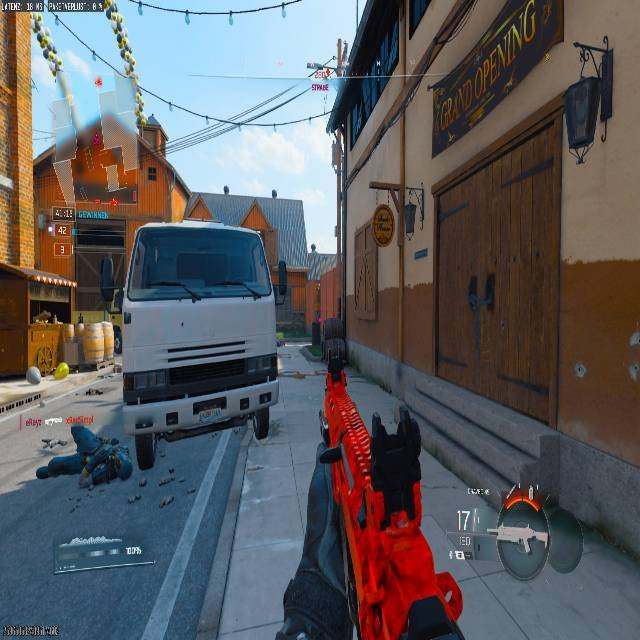head: (70, 425, 99, 454), (116, 459, 133, 480)
